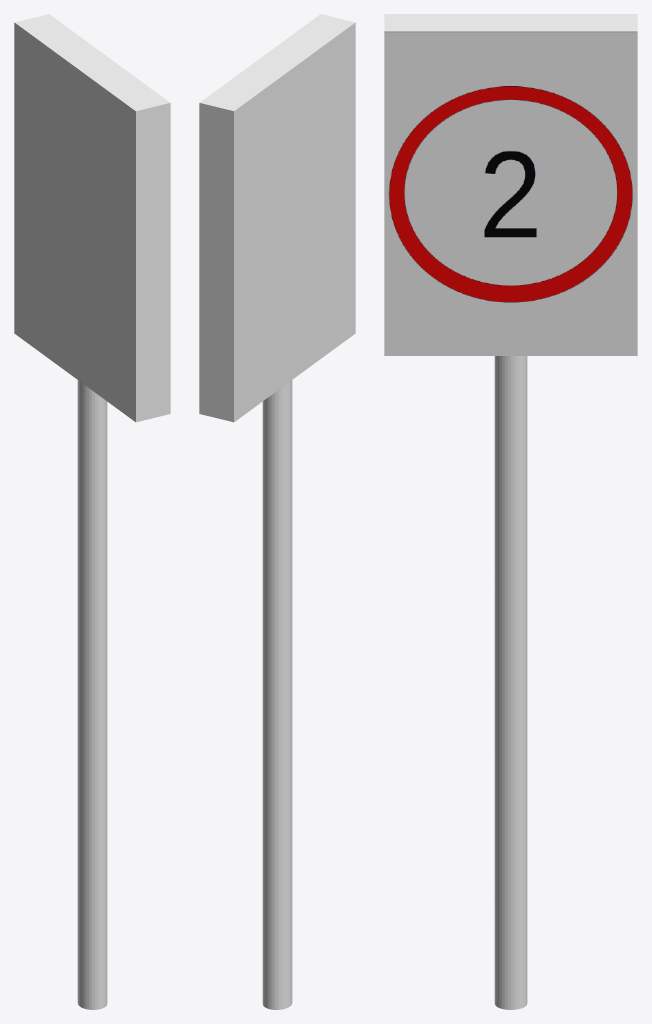
File: sign2.dae
The picture shows the model from 3 angles, left to right: view 1: azimuth 30°, elevation 25°; view 2: azimuth 150°, elevation 25°; view 3: azimuth 270°, elevation 25°; orthographic projection. The views are drawn at different scales.
Visible parts, largest first — view 1: Cube; view 2: Cube; view 3: Cube.
Part boxes in pixels (box(x1,y1,x2,y2)): Cube: box(14, 14, 170, 1009); Cube: box(199, 14, 355, 1009); Cube: box(384, 14, 637, 1009).
Bounding box in the file's own units: 0.0692 × 0.42 × 1.8.
1 material, 1 textured.
